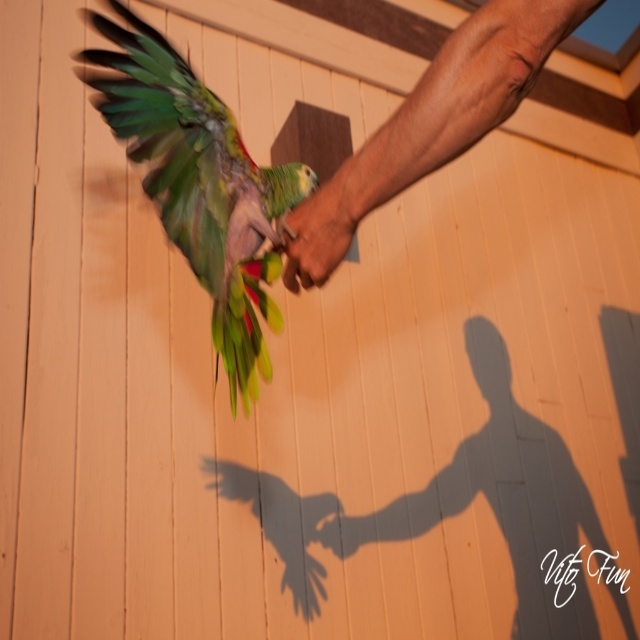Parrot: (79, 9, 315, 427)
